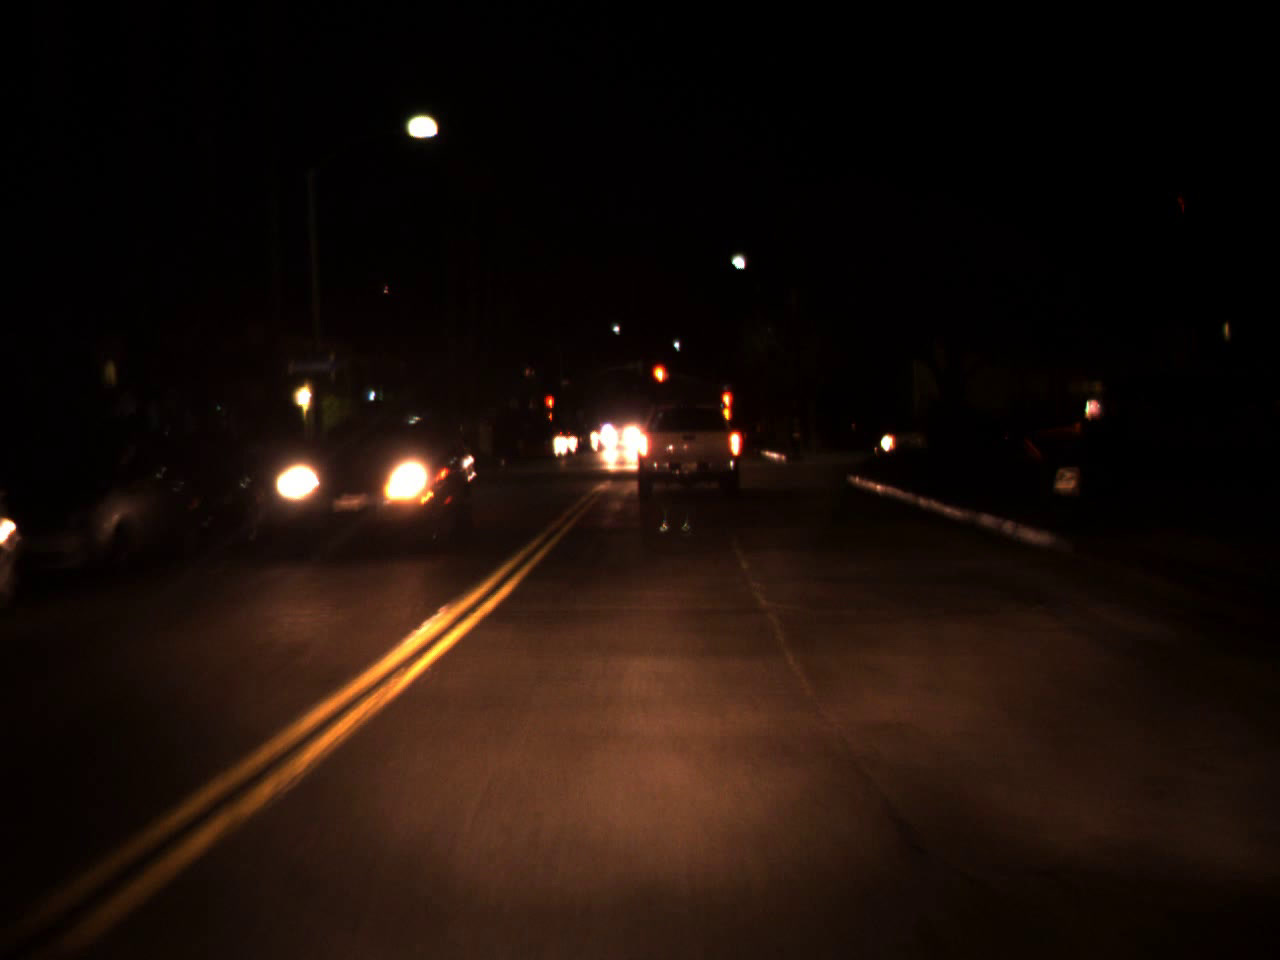stop: (651, 362, 669, 405), (544, 393, 556, 425), (720, 393, 732, 419)
